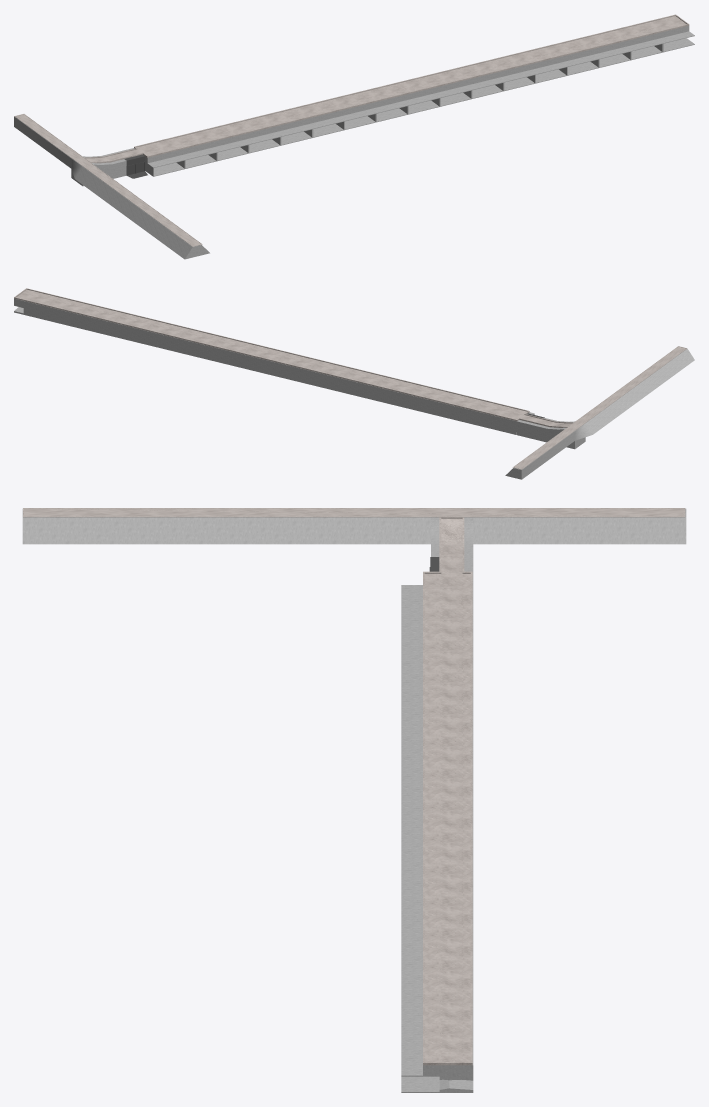
Rendered from Tidal.fbx.
3 renders of one model, top to bottom at view 1: azimuth 30°, elevation 25°; view 2: azimuth 150°, elevation 25°; view 3: azimuth 270°, elevation 25°, orthographic. The views are drawn at different scales.
Visible parts, largest first — view 1: bottomblock, upperblock, road, gate; view 2: bottomblock, upperblock, road; view 3: bottomblock, upperblock, road.
Part boxes in pixels (x1,y1,x2,y2): bottomblock: (14,26,694,259); upperblock: (84,14,689,163); road: (14,114,202,246); gate: (124,154,147,178); bottomblock: (14,298,694,479); upperblock: (14,288,573,427); road: (513,346,686,469); bottomblock: (22,508,686,1092); upperblock: (423,517,472,1065); road: (23,508,685,517).
Size of the model in its own units: 81536 by 2554 by 41203.
Materials: 3 (2 with a texture image).
